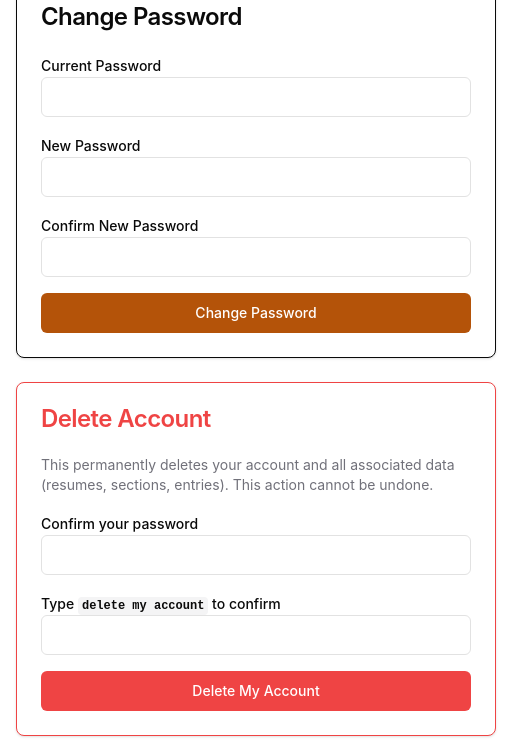
Test: AccountView › Delete Account › shows error from server on wrong password
(page scrolled)
Step 1. Type "wrong-pw" into the password field with id "delete-password" → (256, 555), box 41,535 -> 471,575
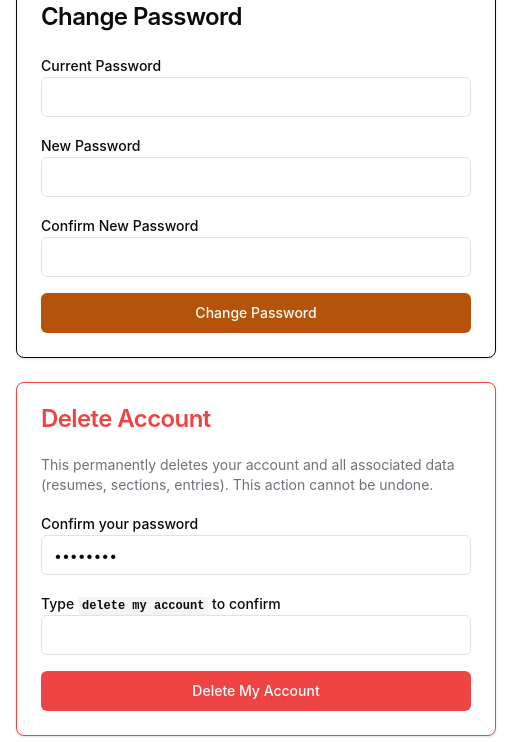
Step 2. Type "delete my account" into the field with id "delete-confirm" → (256, 635), box 41,615 -> 471,655
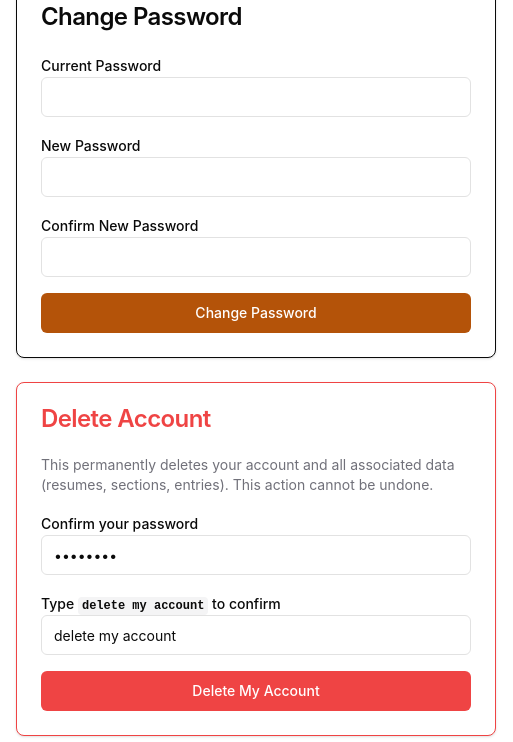
Step 3. Submit the form that starts with "Confirm your password", box 41,511 -> 471,711
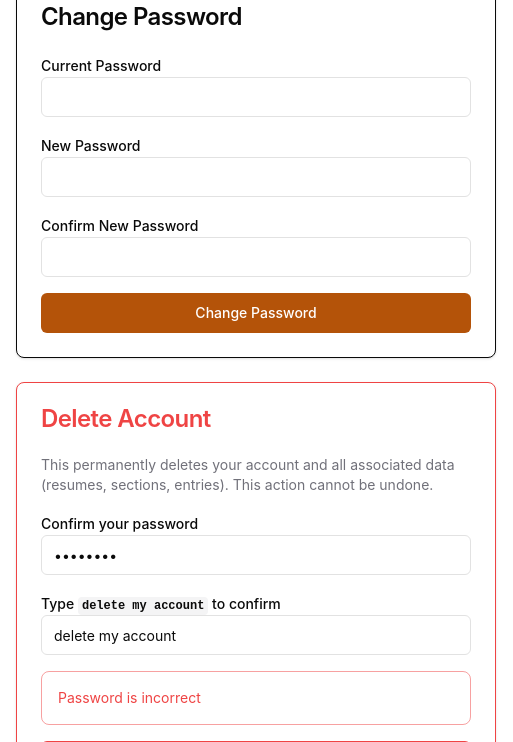
Expected: the message "Password is incorrect" is shown, 41,671 -> 471,725
